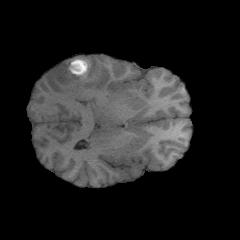glioma: (49, 57, 109, 99)
